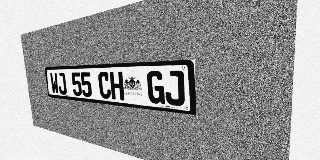5: (80, 72, 92, 97), (71, 72, 82, 96)
C: (98, 72, 111, 99)
G: (147, 71, 165, 104)
H: (110, 72, 124, 100)
J: (164, 70, 185, 106), (57, 73, 67, 95)
W: (50, 73, 59, 94)
